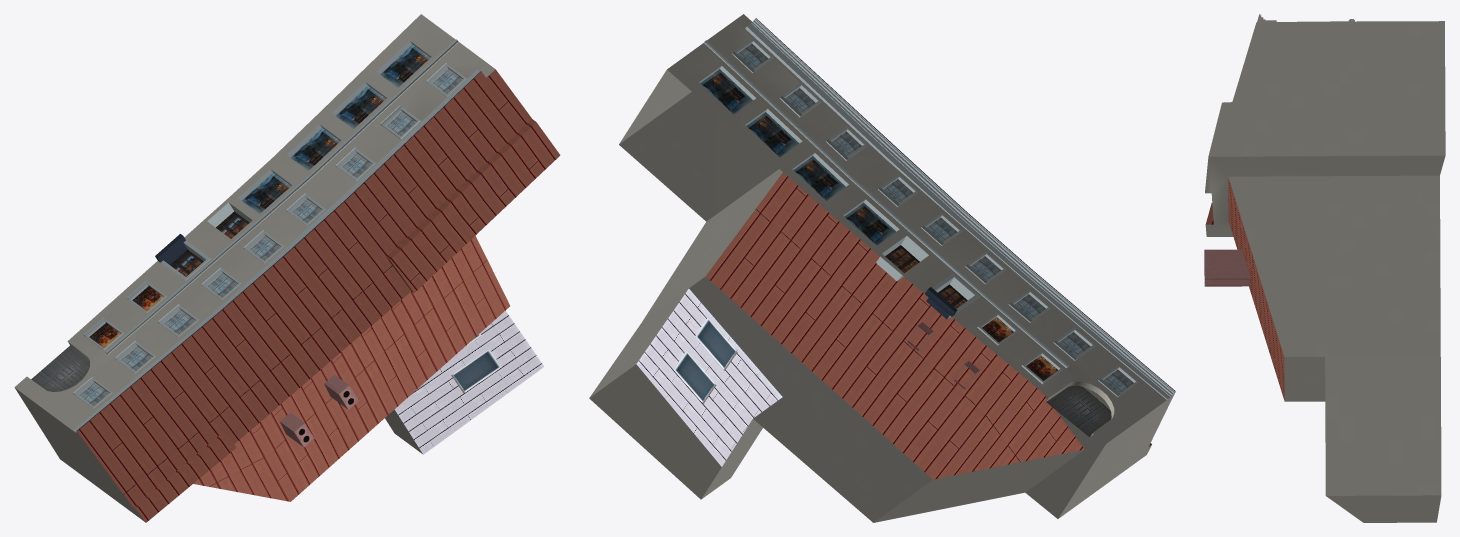
File: Myyrivahe_20.obj
The picture shows the model from 3 angles, left to right: view 1: azimuth 30°, elevation 25°; view 2: azimuth 150°, elevation 25°; view 3: azimuth 270°, elevation 25°; orthographic projection. The views are drawn at different scales.
Parts seen in each view (by area): view 1: Myyrivahe002; view 2: Myyrivahe002; view 3: Myyrivahe002.
Part boxes in pixels (x1,y1,x2,y2): Myyrivahe002: (14,14,560,522); Myyrivahe002: (589,14,1175,522); Myyrivahe002: (1204,14,1445,522).
Size of the model in its own units: 27.14 by 21.6 by 9.05.
1 material, 1 textured.
